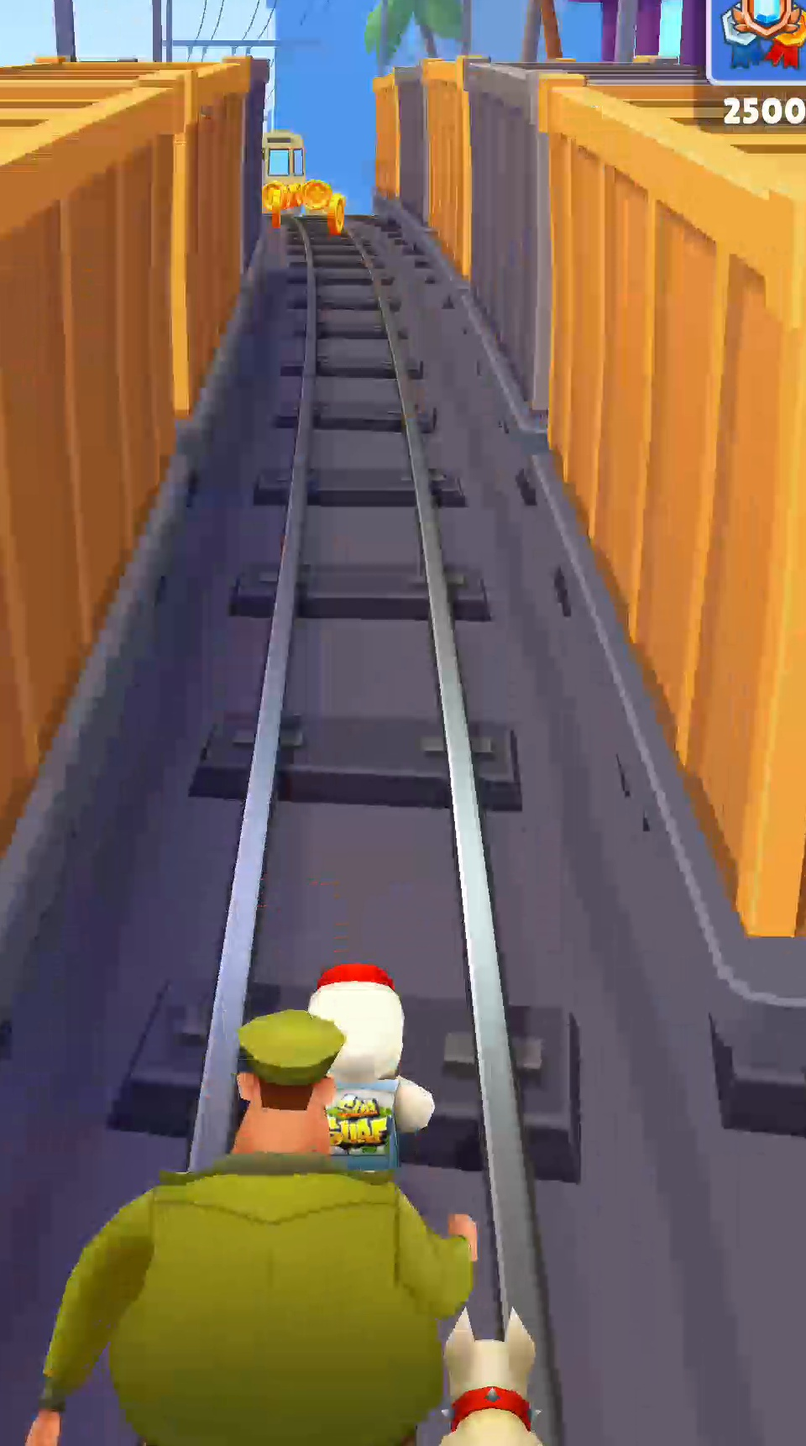train: (372, 57, 805, 936), (0, 58, 265, 839), (264, 129, 305, 182)
